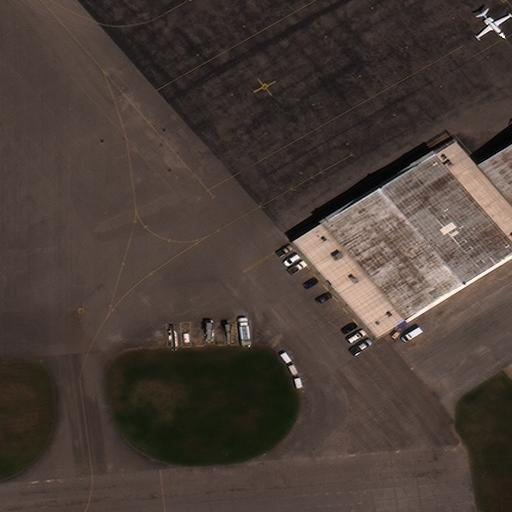Small Civil Transport: (478, 11, 512, 38)
